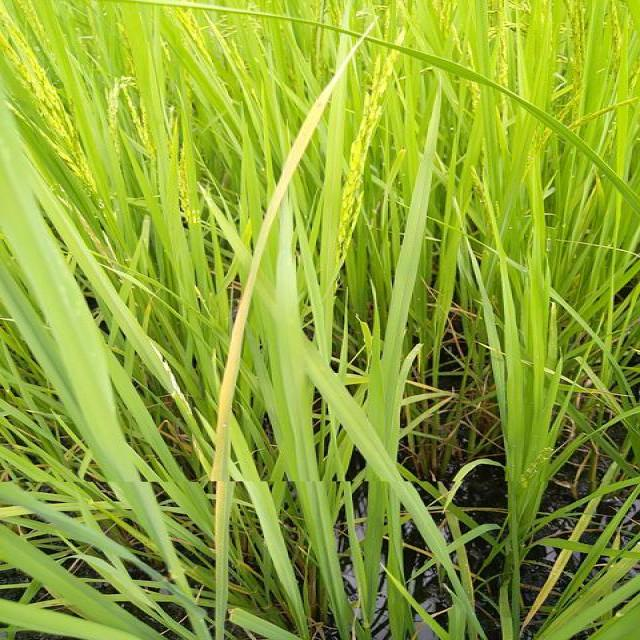Leaf Blight: (209, 57, 348, 639)
